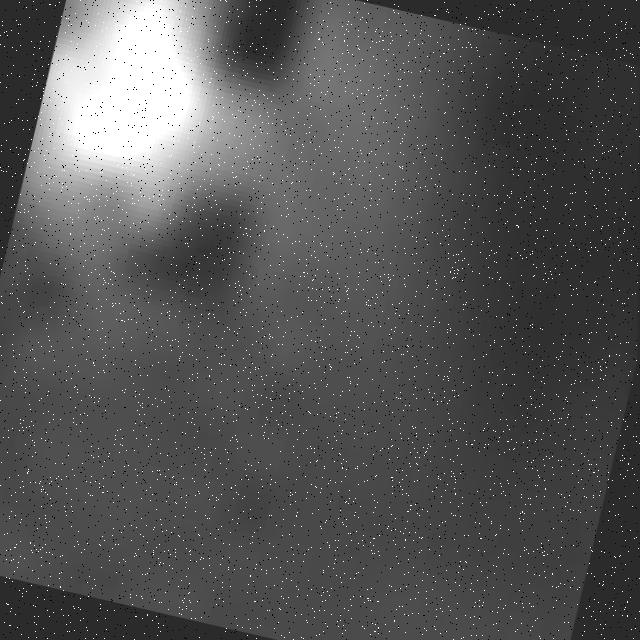person: (1, 1, 325, 347)
